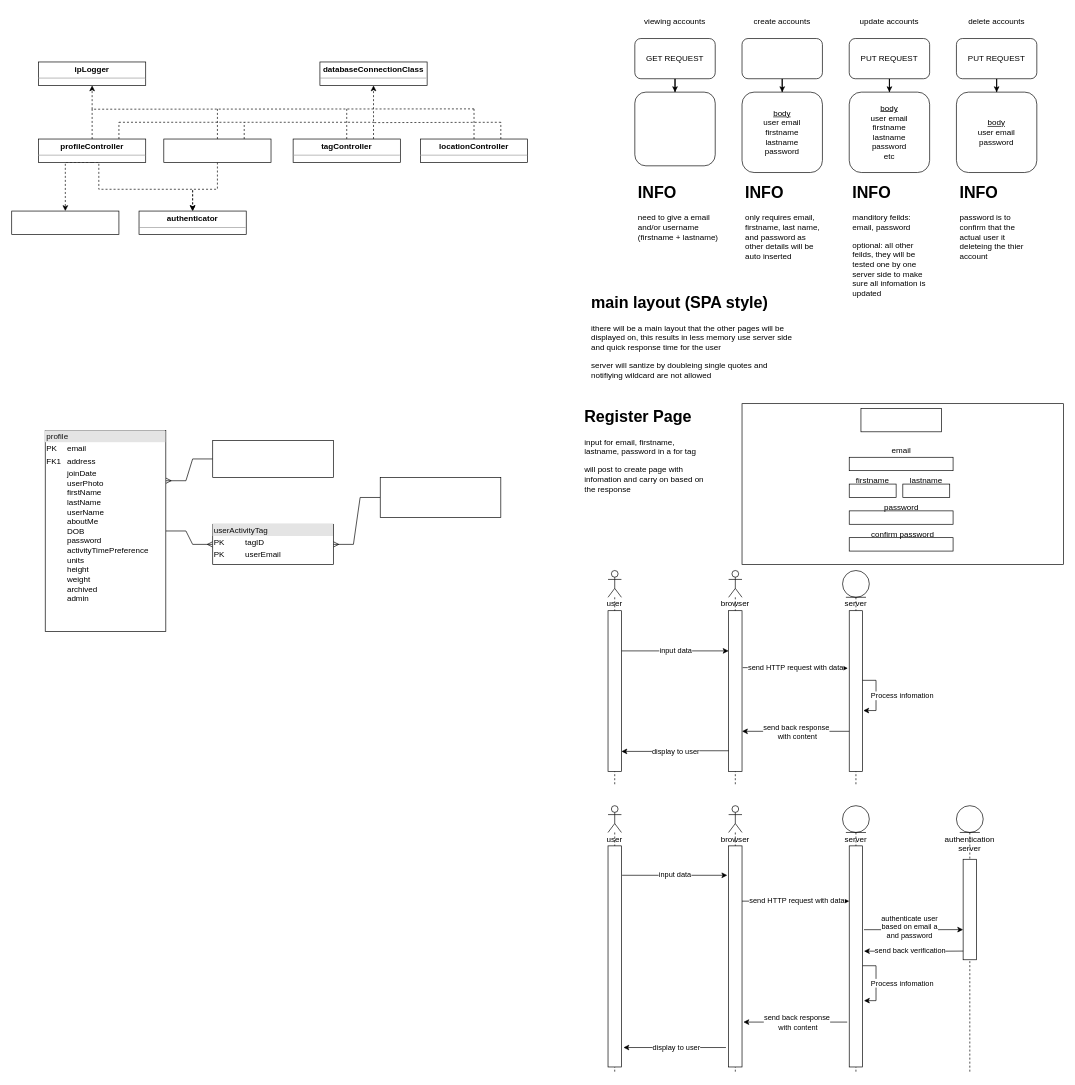
This 1075x1085 diagram has some shape labels left out. Each missing label, with the box of its shape:
activityTag PK ID name: (380, 477, 501, 518)
body user email and/or username: (634, 91, 715, 166)
helperClass: (11, 210, 119, 234)
location PK ID name: (212, 440, 333, 477)
POST REQUEST: (741, 38, 822, 79)
TITLE: (860, 408, 941, 432)
userTag Controller: (163, 138, 271, 162)
